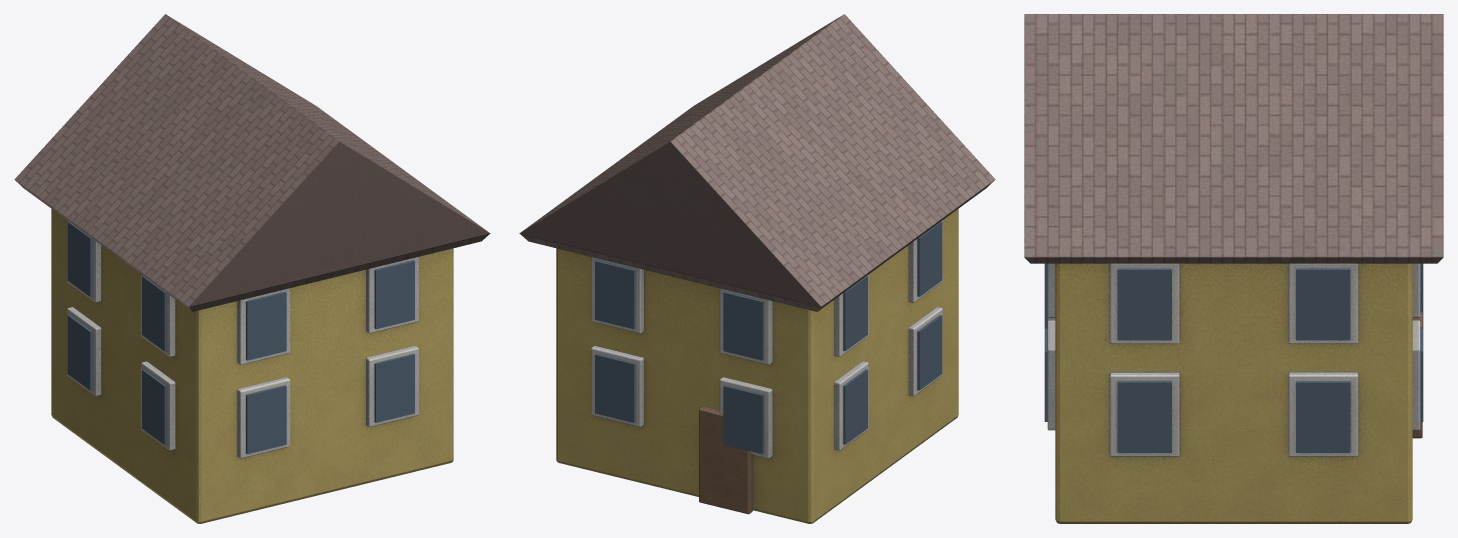
Rendered from reihe_klassiker.glb.
The picture shows the model from 3 angles, left to right: view 1: azimuth 30°, elevation 25°; view 2: azimuth 150°, elevation 25°; view 3: azimuth 270°, elevation 25°; orthographic projection. The views are drawn at different scales.
Visible parts, largest first — view 1: reihe_klassiker, reihe_klassiker_details; view 2: reihe_klassiker, reihe_klassiker_details; view 3: reihe_klassiker, reihe_klassiker_details.
Boxes of the visible parts, left/top/right/bottom form: reihe_klassiker: left=14, top=14, right=490, bottom=523; reihe_klassiker_details: left=67, top=221, right=414, bottom=453; reihe_klassiker: left=519, top=14, right=995, bottom=523; reihe_klassiker_details: left=595, top=221, right=942, bottom=453; reihe_klassiker: left=1024, top=14, right=1443, bottom=523; reihe_klassiker_details: left=1044, top=263, right=1423, bottom=452.
Size of the model in its own units: 0.54 by 0.62 by 0.54.
2 materials, 1 textured.
